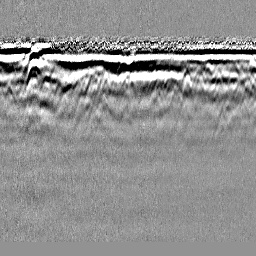cavity: (118, 71, 137, 93)
